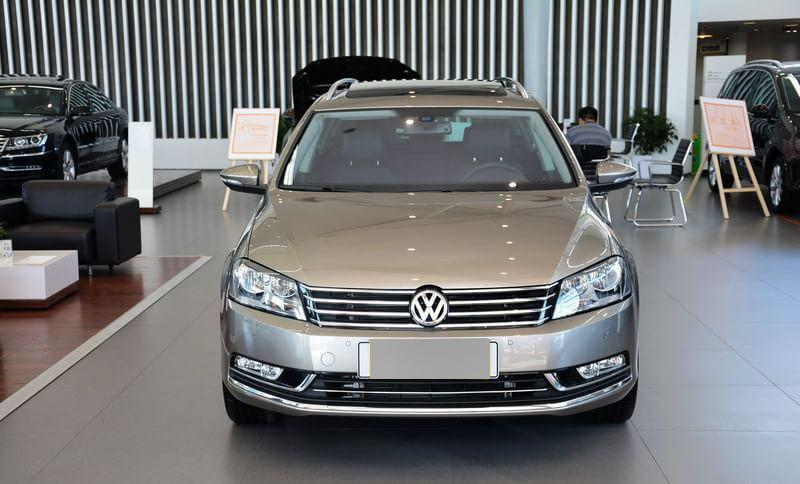Wagon: (215, 74, 642, 426)
